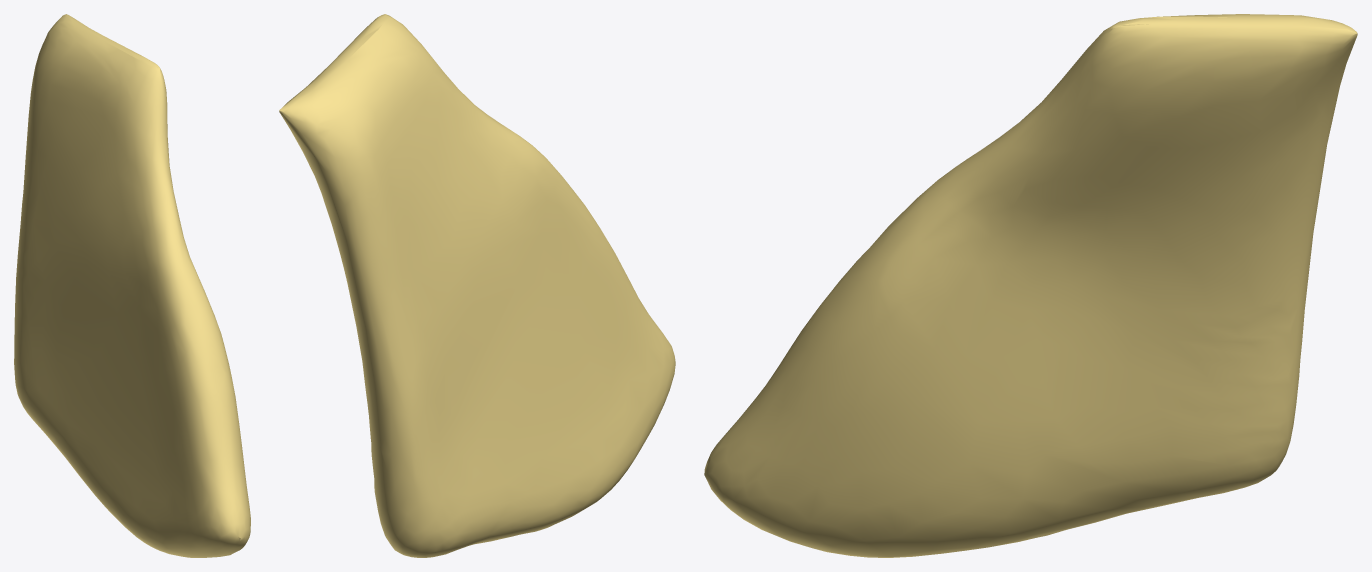
File: fma62328-l_mm2973.glb
3 renders of one model, left to right at view 1: azimuth 30°, elevation 25°; view 2: azimuth 150°, elevation 25°; view 3: azimuth 270°, elevation 25°, orthographic. The views are drawn at different scales.
Parts seen in each view (by area): view 1: FMA62328-L_MM2973; view 2: FMA62328-L_MM2973; view 3: FMA62328-L_MM2973.
Part boxes in pixels (bbox=[...]): FMA62328-L_MM2973: bbox=[14, 14, 250, 557]; FMA62328-L_MM2973: bbox=[279, 14, 675, 557]; FMA62328-L_MM2973: bbox=[704, 14, 1357, 557].
Size of the model in its own units: 0.00153 by 0.00578 by 0.00596.
